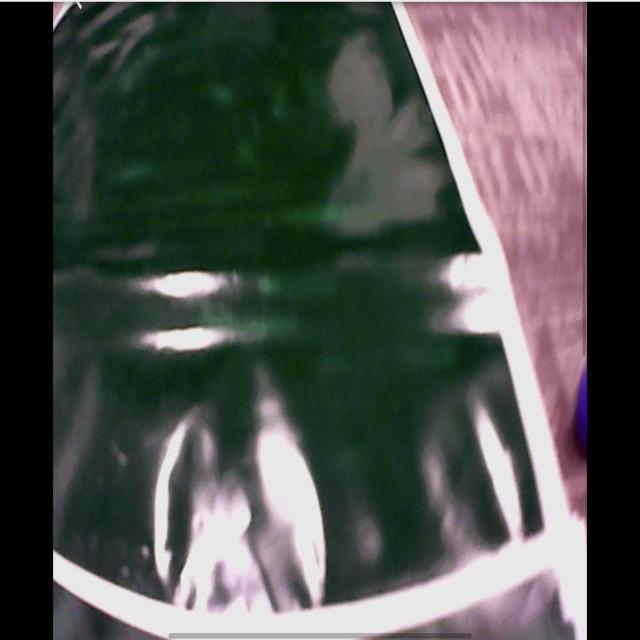ball: (575, 363, 589, 458)
